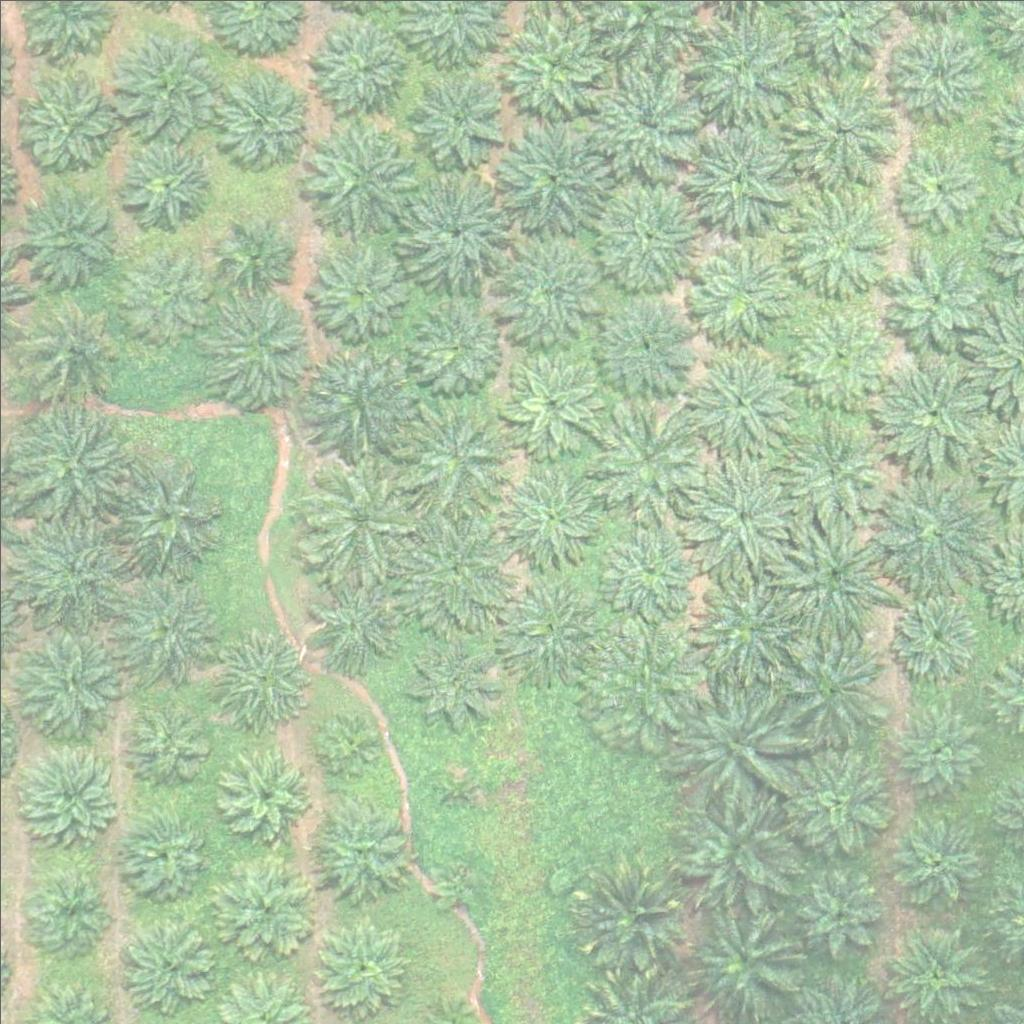Kelapa_Sawit: (587, 625, 700, 739), (675, 793, 788, 907), (675, 686, 788, 800), (306, 462, 419, 576), (202, 288, 315, 402), (10, 67, 123, 181), (112, 28, 225, 142), (10, 620, 123, 733), (874, 472, 987, 585), (876, 354, 989, 467), (780, 182, 893, 295), (788, 73, 901, 186), (695, 572, 808, 685), (592, 510, 705, 623), (588, 403, 701, 516), (591, 289, 704, 402), (488, 235, 601, 348), (496, 125, 609, 238), (17, 509, 130, 622), (494, 4, 607, 117), (683, 5, 796, 118), (691, 909, 803, 1023), (498, 577, 610, 691), (494, 462, 606, 576), (399, 510, 511, 624), (402, 402, 514, 516), (302, 349, 414, 463), (305, 234, 417, 348), (573, 866, 685, 979), (397, 623, 509, 736), (780, 743, 892, 856), (773, 629, 885, 742), (778, 514, 890, 627), (776, 412, 888, 525), (687, 453, 799, 566), (686, 342, 798, 455), (681, 118, 793, 231), (593, 175, 705, 288), (592, 63, 704, 176), (401, 182, 513, 295), (303, 117, 415, 230), (109, 458, 221, 571), (13, 405, 125, 518), (8, 174, 120, 287), (218, 854, 318, 955), (15, 296, 115, 397), (16, 747, 116, 848), (117, 909, 217, 1010), (115, 573, 215, 674), (215, 746, 315, 847), (213, 628, 313, 729), (311, 921, 411, 1022), (306, 797, 406, 898), (884, 814, 984, 915), (888, 249, 988, 350), (792, 303, 892, 404), (692, 243, 792, 344), (502, 356, 602, 457), (407, 65, 507, 166), (307, 569, 407, 670), (310, 17, 410, 118), (887, 923, 987, 1023), (885, 21, 985, 121), (406, 300, 506, 400), (217, 67, 317, 167), (115, 244, 215, 344), (118, 132, 218, 232), (123, 695, 211, 784), (117, 811, 205, 899), (894, 706, 982, 794), (889, 589, 977, 677), (23, 865, 110, 953), (795, 871, 882, 959), (892, 143, 979, 231), (219, 222, 294, 298), (316, 712, 379, 775), (436, 863, 473, 901), (440, 772, 477, 810)
